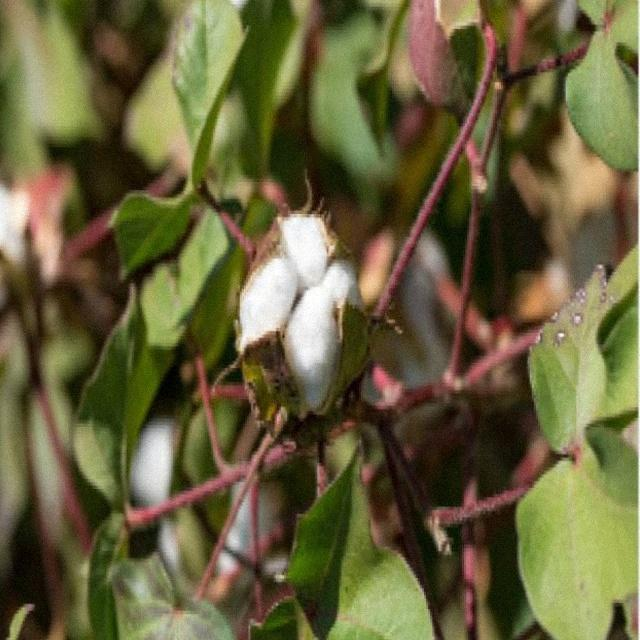Split Cotton Boll: (237, 217, 370, 422)
